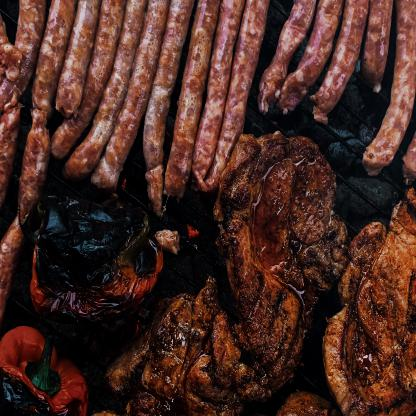Carne: (213, 120, 350, 382), (329, 189, 415, 410), (135, 280, 249, 415)
